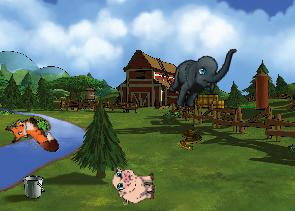elephant: (165, 35, 237, 117)
fox: (1, 107, 62, 168)
pig: (112, 165, 156, 205)
